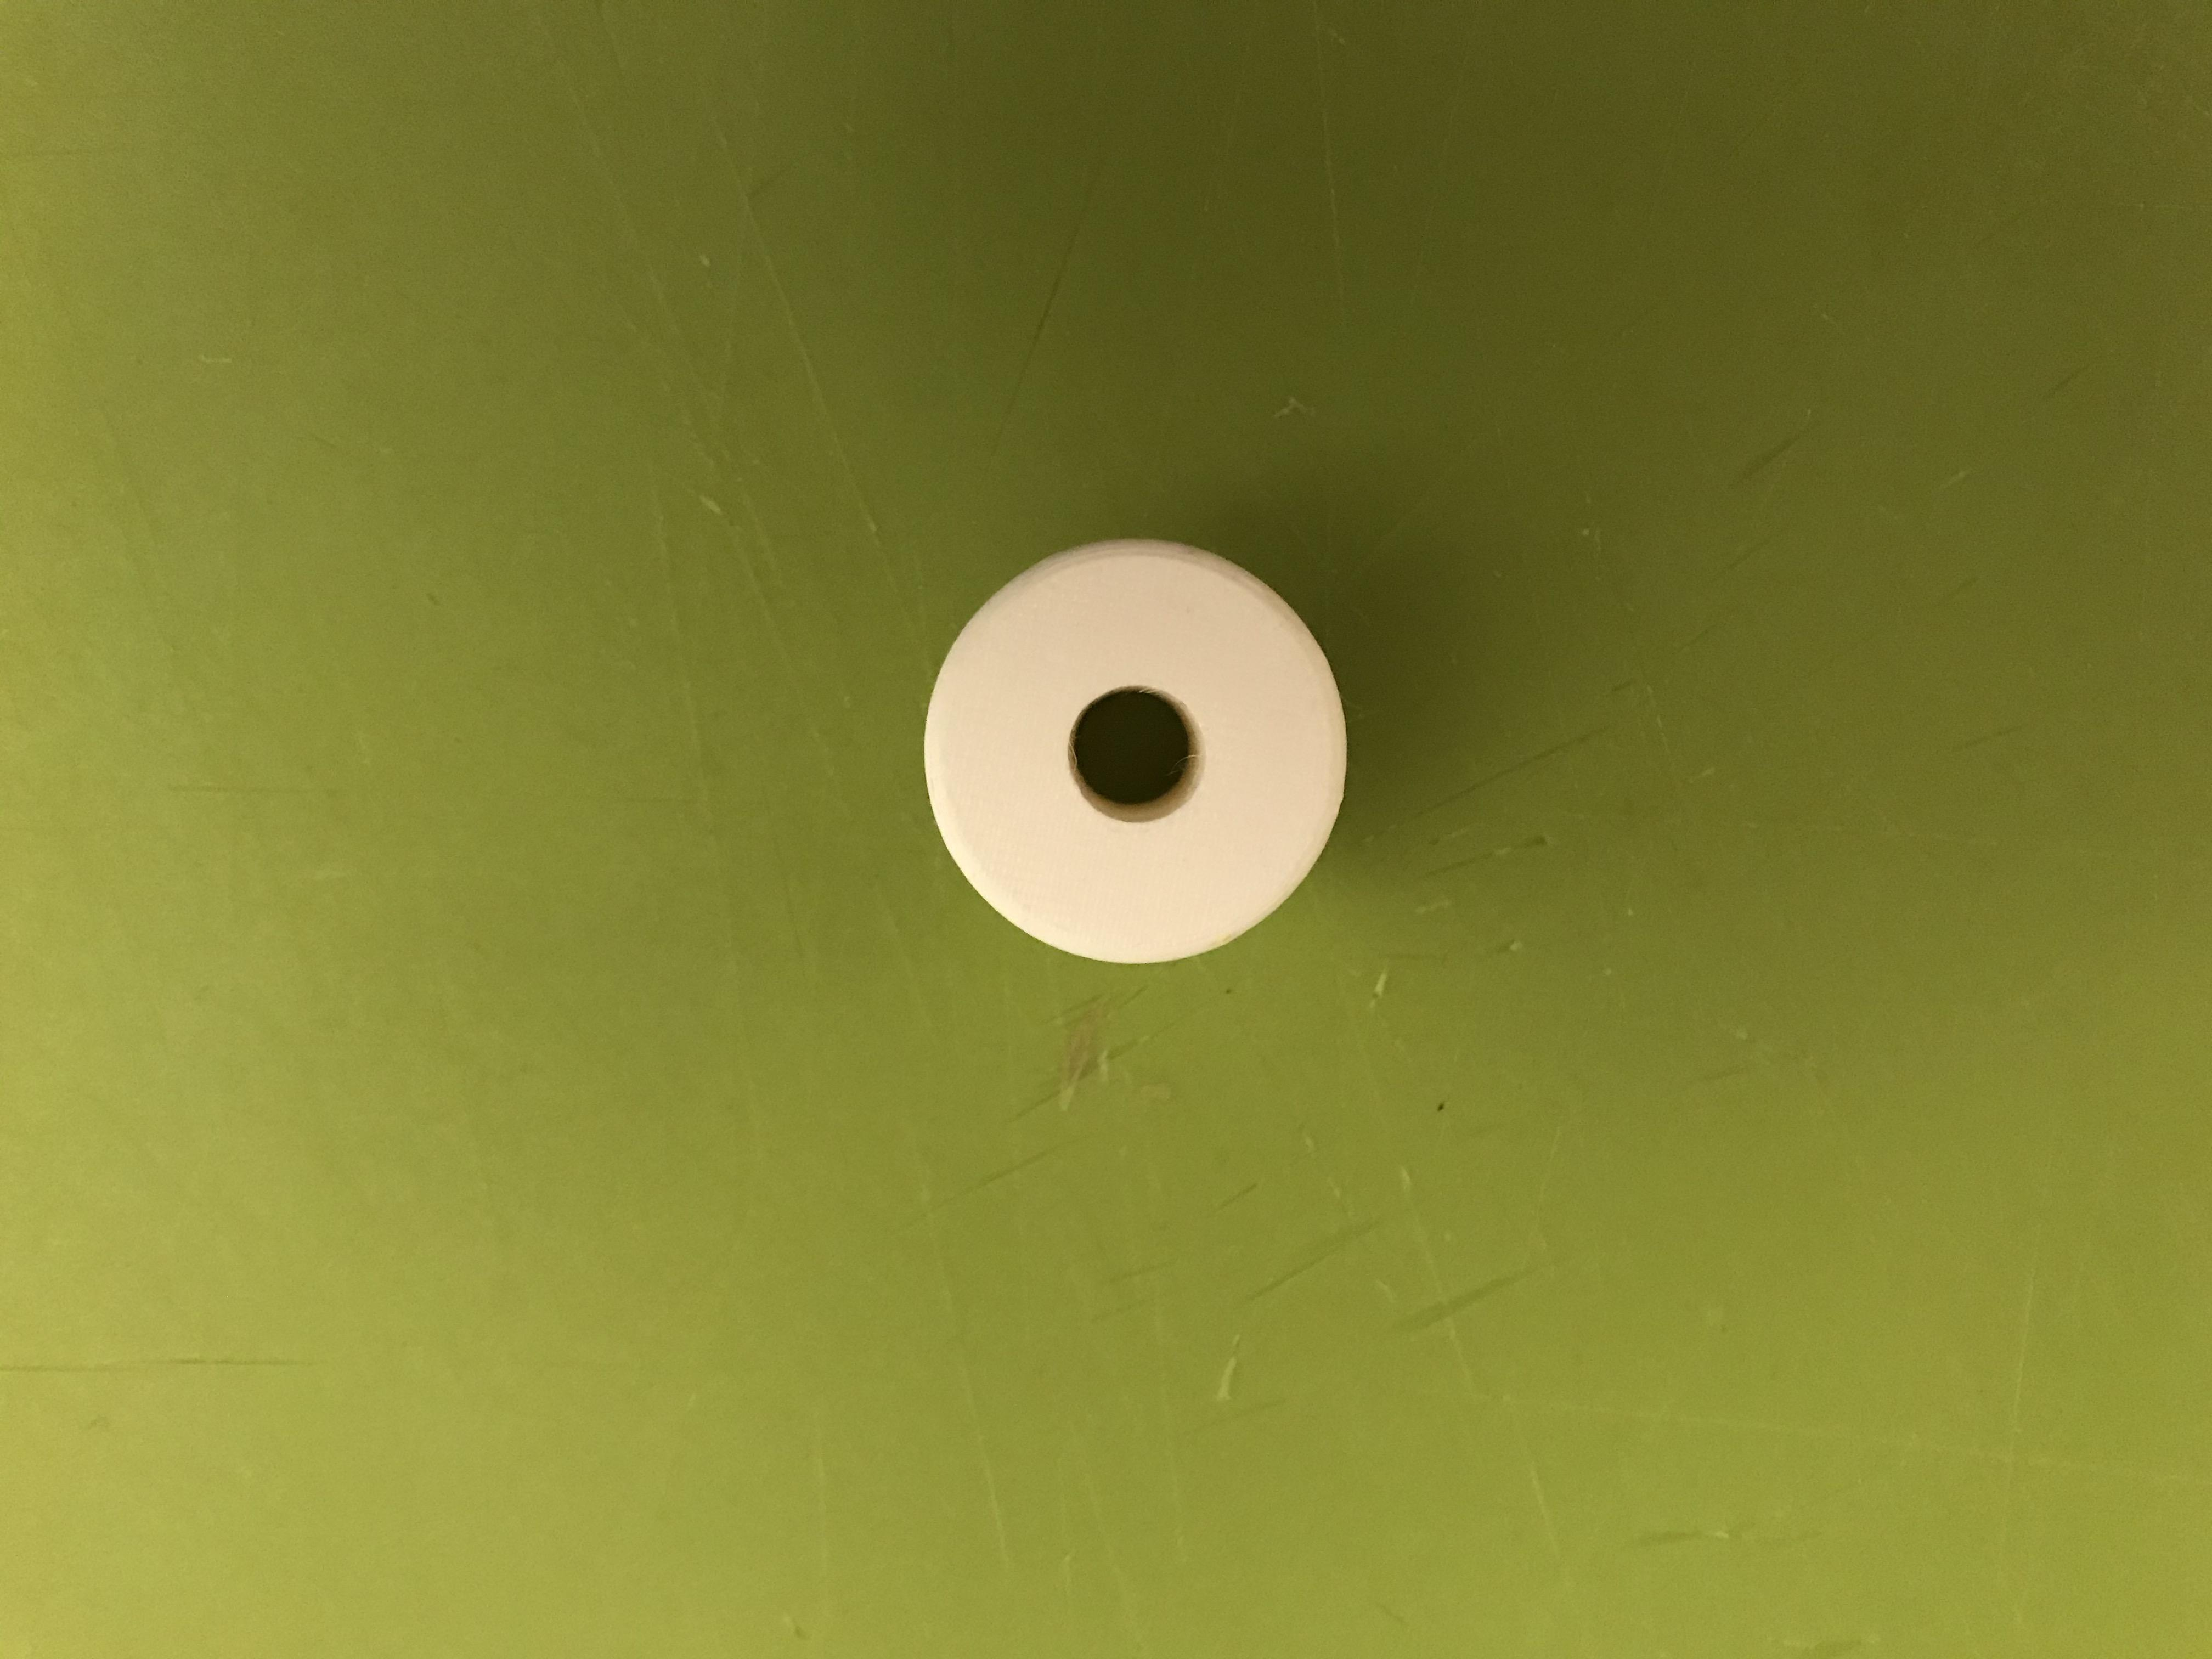White Cone: (906, 537, 1355, 967)
